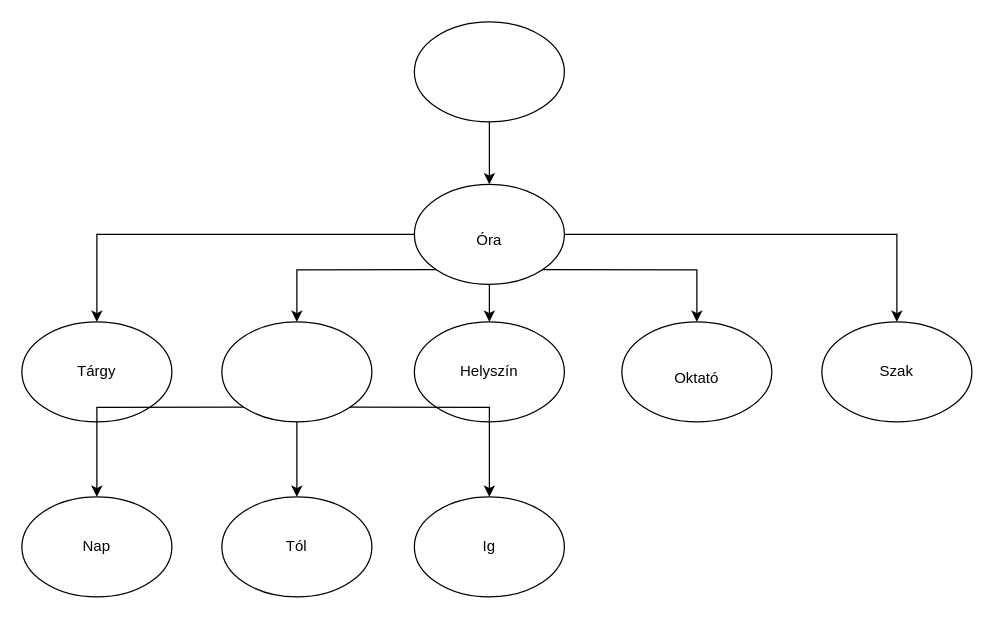
This 994x619 diagram has some shape labels left out. Here are the shapes that lost their labels. From the top down, the centre of each, then its label:
At point 488,71: "Órarend".
At point 296,371: "Időpont".
